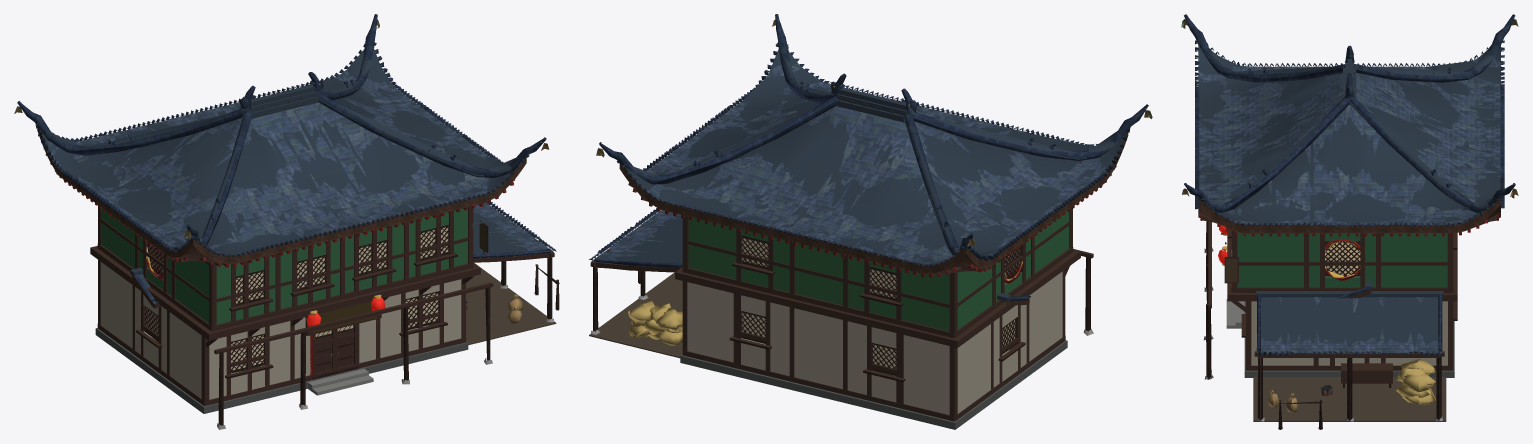
Rendered from prop_inn.gltf.
3 views of the same model, side by side, from view 1: azimuth 30°, elevation 25°; view 2: azimuth 150°, elevation 25°; view 3: azimuth 270°, elevation 25° (orthographic). The views are drawn at different scales.
Parts seen in each view (by area): view 1: Far, Near; view 2: Far, Near; view 3: Far, Near.
Boxes of the visible parts, x1,y1,x2,y2 form: Far: (25,14,558,413); Near: (14,14,559,429); Far: (589,14,1148,429); Near: (589,14,1152,382); Far: (1183,21,1514,429); Near: (1181,14,1518,429).
Bounding box in the file's own units: 16.54 × 9.87 × 11.72.
26 materials, 18 textured.
